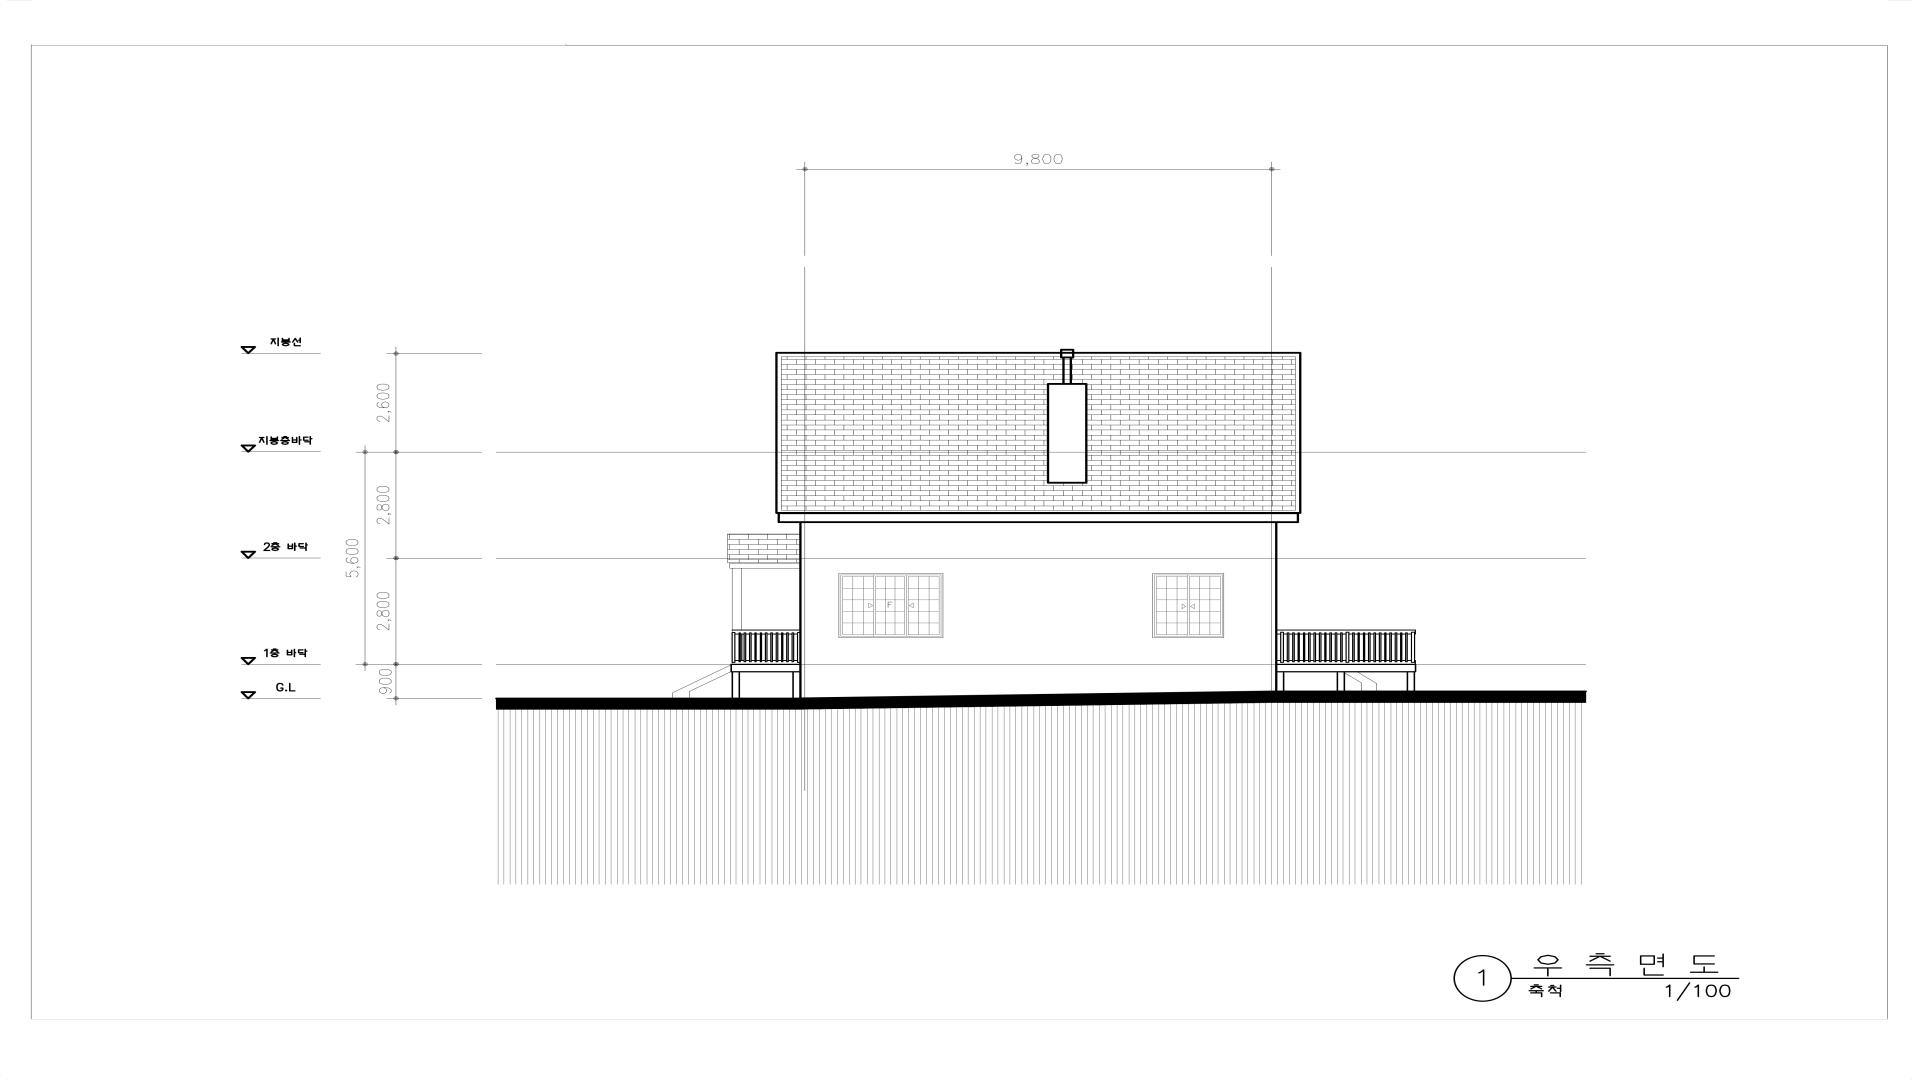wall: (775, 352, 1302, 709)
window: (839, 574, 943, 638), (1153, 574, 1224, 638)
